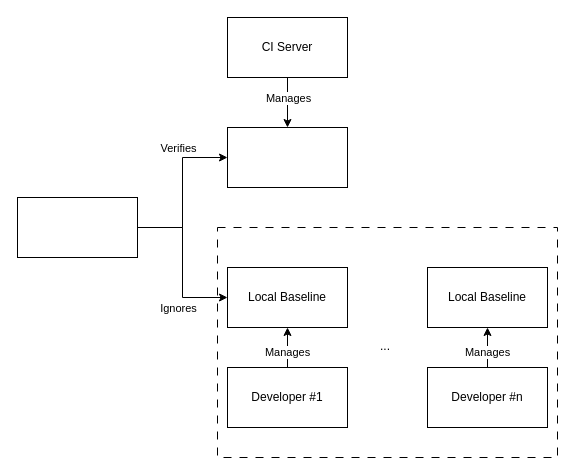
The diagram is 575 pixels wide and 475 high, and some of its shapes have lost their labels. Here are the shapes that lost their labels. From the top down, the centre of each, then its label:
At (x=287, y=157): "Shared Baseline".
At (x=77, y=227): "Reviewer".
